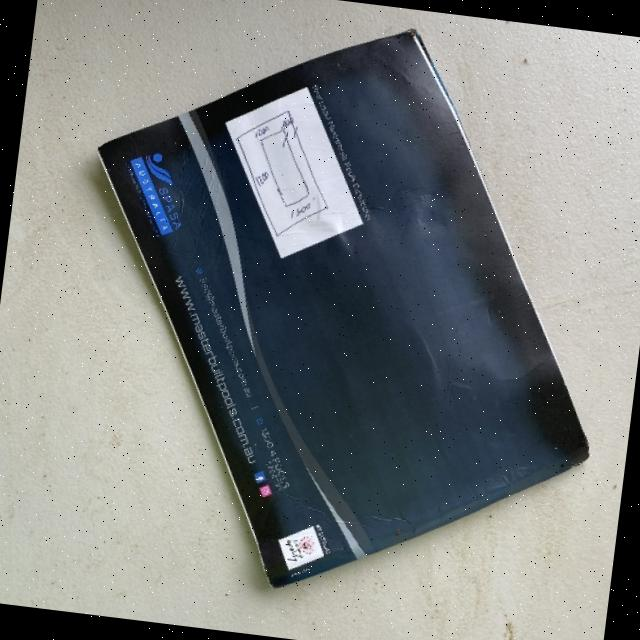paper: (45, 0, 638, 625), (208, 75, 378, 268)
